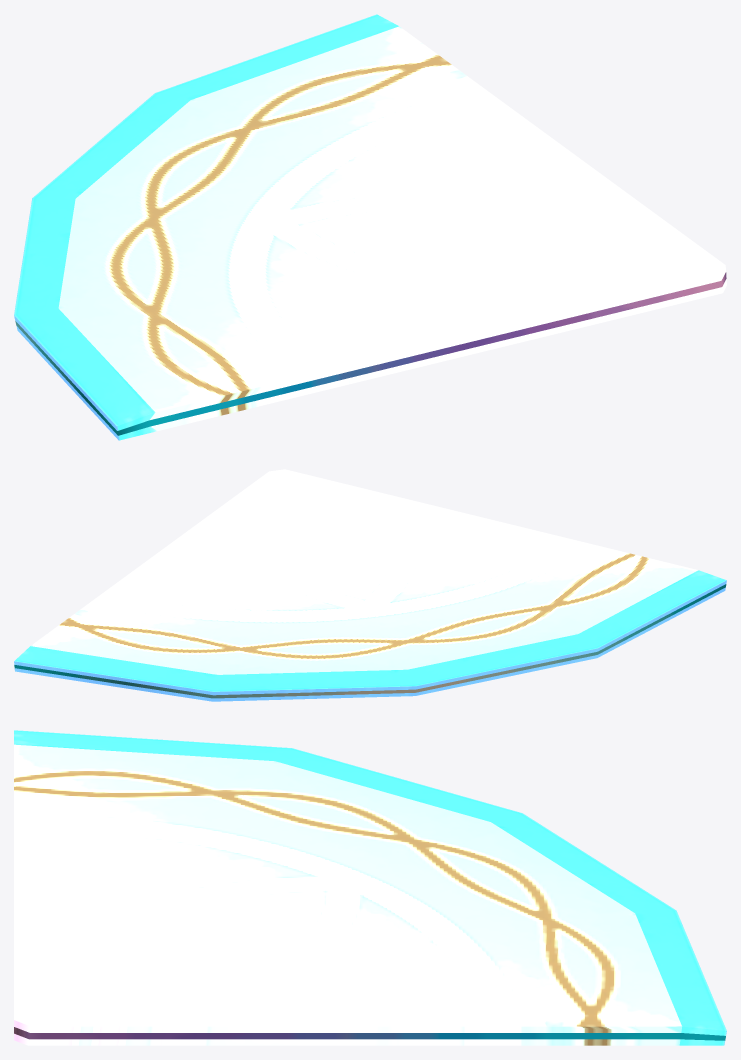
Rendered from Structure_Vapor_Floor_01_Art.fbx.
3 views of the same model, one above another, from view 1: azimuth 30°, elevation 25°; view 2: azimuth 150°, elevation 25°; view 3: azimuth 270°, elevation 25° (orthographic). The views are drawn at different scales.
Visible parts, largest first — view 1: Structure_Vapor_Floor_01_Art; view 2: Structure_Vapor_Floor_01_Art; view 3: Structure_Vapor_Floor_01_Art.
Boxes of the visible parts, left/top/right/bottom form: Structure_Vapor_Floor_01_Art: left=14, top=14, right=726, bottom=440; Structure_Vapor_Floor_01_Art: left=14, top=469, right=726, bottom=701; Structure_Vapor_Floor_01_Art: left=14, top=730, right=726, bottom=1045.
Size of what is drawn, in the model's own units: 3.49 by 0.1039 by 3.5.
